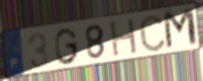3: (27, 32, 49, 69)
8: (85, 23, 107, 60)
C: (138, 13, 168, 54)
G: (53, 26, 81, 66)
H: (108, 16, 139, 59)
M: (161, 6, 200, 53)
